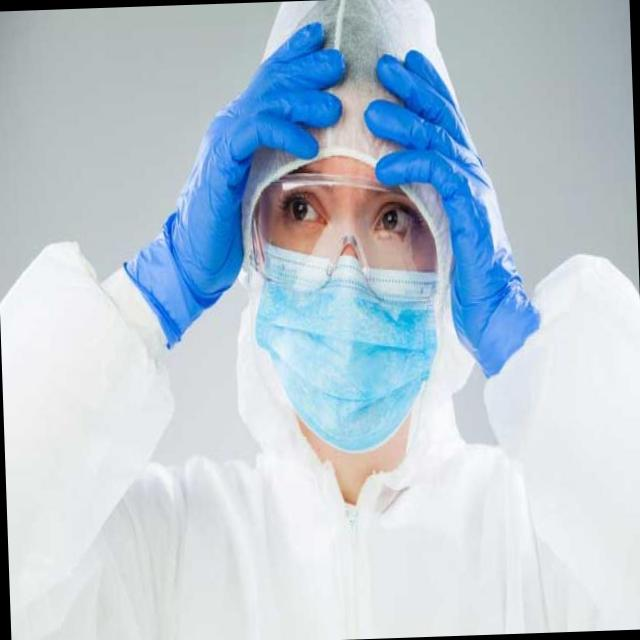Gloves: (164, 10, 355, 302), (374, 43, 520, 340)
